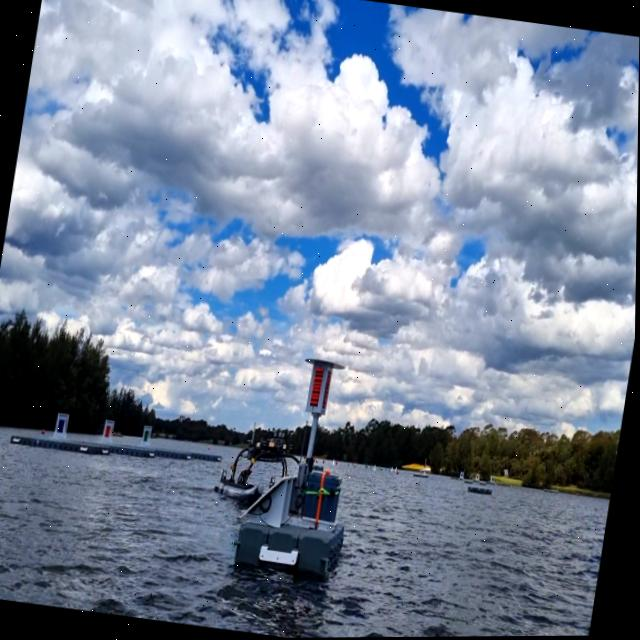led: (309, 365, 327, 413)
